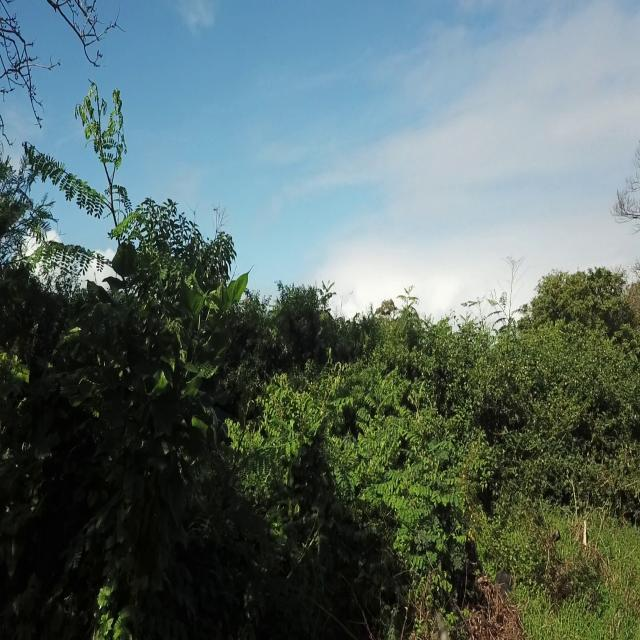Mysore-Thorn-Weed: (15, 82, 159, 318)
